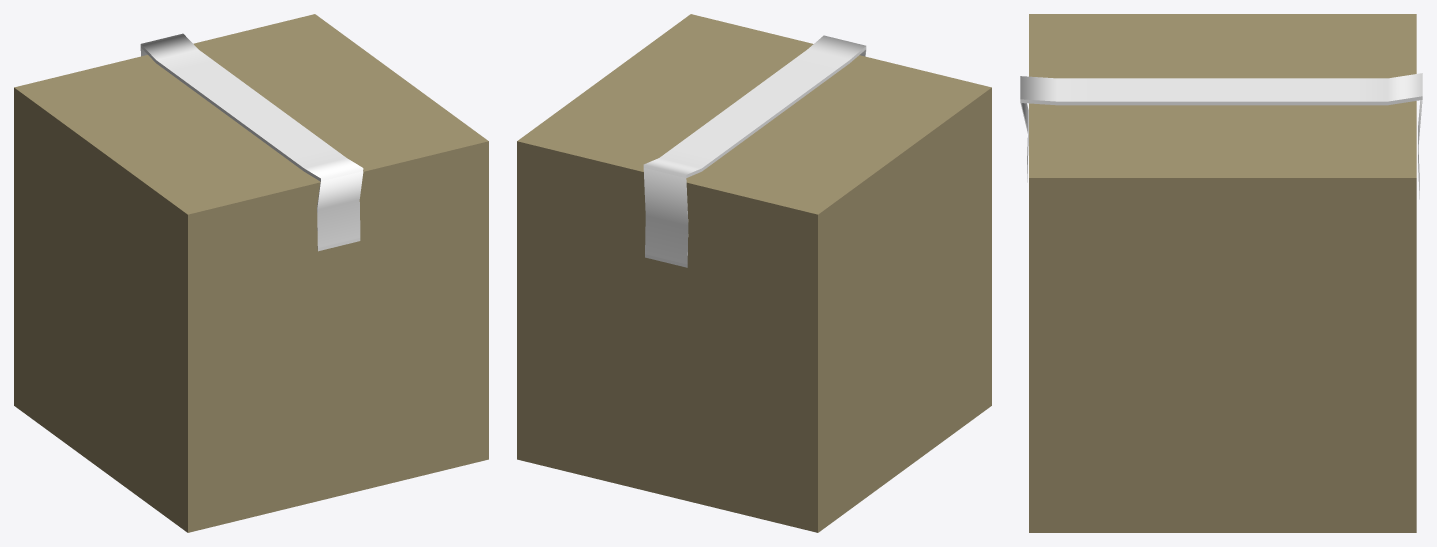
File: PS_CardboardBoxWTape1_14_DF.fbx
3 renders of one model, left to right at view 1: azimuth 30°, elevation 25°; view 2: azimuth 150°, elevation 25°; view 3: azimuth 270°, elevation 25°, orthographic. The views are drawn at different scales.
Visible parts, largest first — view 1: Box1WTape, Tape1; view 2: Box1WTape, Tape1; view 3: Box1WTape, Tape1.
Boxes of the visible parts, <box> form: Box1WTape: <box>14,14,488,532</box>; Tape1: <box>140,33,363,251</box>; Box1WTape: <box>517,14,991,532</box>; Tape1: <box>643,35,866,267</box>; Box1WTape: <box>1029,14,1416,532</box>; Tape1: <box>1020,73,1422,199</box>.
Size of the model in its own units: 0.3342 by 0.3483 by 0.3464.
